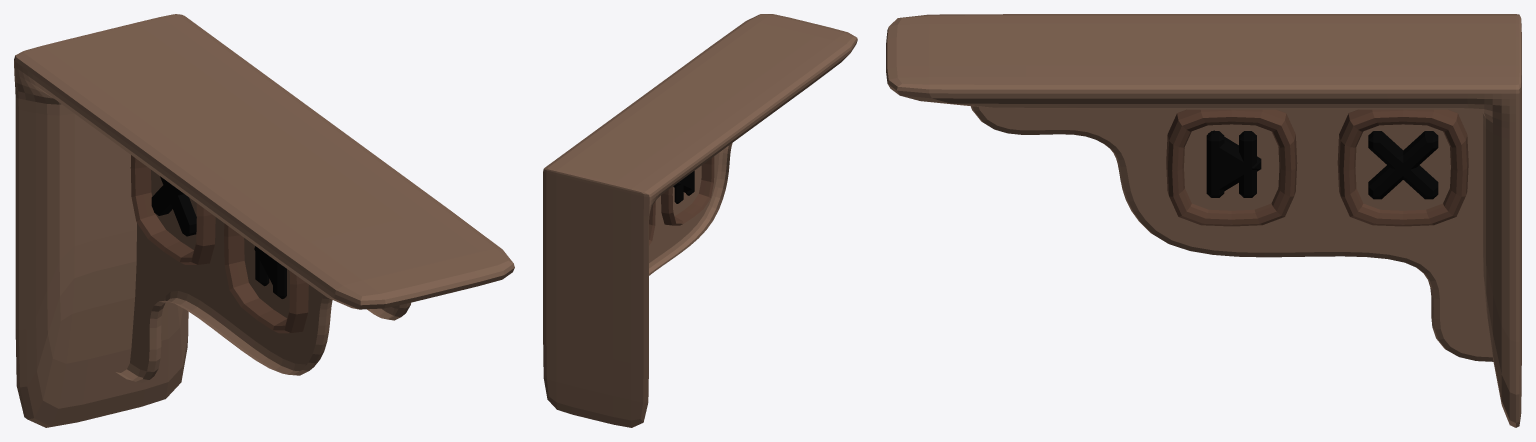
The model's file is PauseQuit.fbx.
3 renders of one model, left to right at view 1: azimuth 30°, elevation 25°; view 2: azimuth 150°, elevation 25°; view 3: azimuth 270°, elevation 25°, orthographic. The views are drawn at different scales.
Parts seen in each view (by area): view 1: CornerFrame, PauseAndQuitBoard, Frame1, Frame2, QuitIcon, PauseIcon; view 2: CornerFrame, PauseAndQuitBoard, Frame1; view 3: CornerFrame, PauseAndQuitBoard, Frame2, Frame1, QuitIcon, PauseIcon, PlayIcon.
Boxes of the visible parts, x1,y1,x2,y2 form: CornerFrame: (14, 14, 514, 427); PauseAndQuitBoard: (116, 170, 410, 382); Frame1: (224, 223, 308, 333); Frame2: (130, 155, 215, 264); QuitIcon: (151, 176, 196, 236); PauseIcon: (255, 246, 286, 298); CornerFrame: (543, 14, 857, 427); PauseAndQuitBoard: (649, 143, 732, 275); Frame1: (661, 156, 714, 225); CornerFrame: (886, 14, 1521, 427); PauseAndQuitBoard: (970, 106, 1493, 361); Frame2: (1337, 109, 1468, 226); Frame1: (1166, 109, 1297, 226); QuitIcon: (1368, 131, 1438, 199); PauseIcon: (1206, 131, 1256, 197); PlayIcon: (1208, 130, 1261, 191).
Size of the model in its own units: 146 by 313 by 511.
